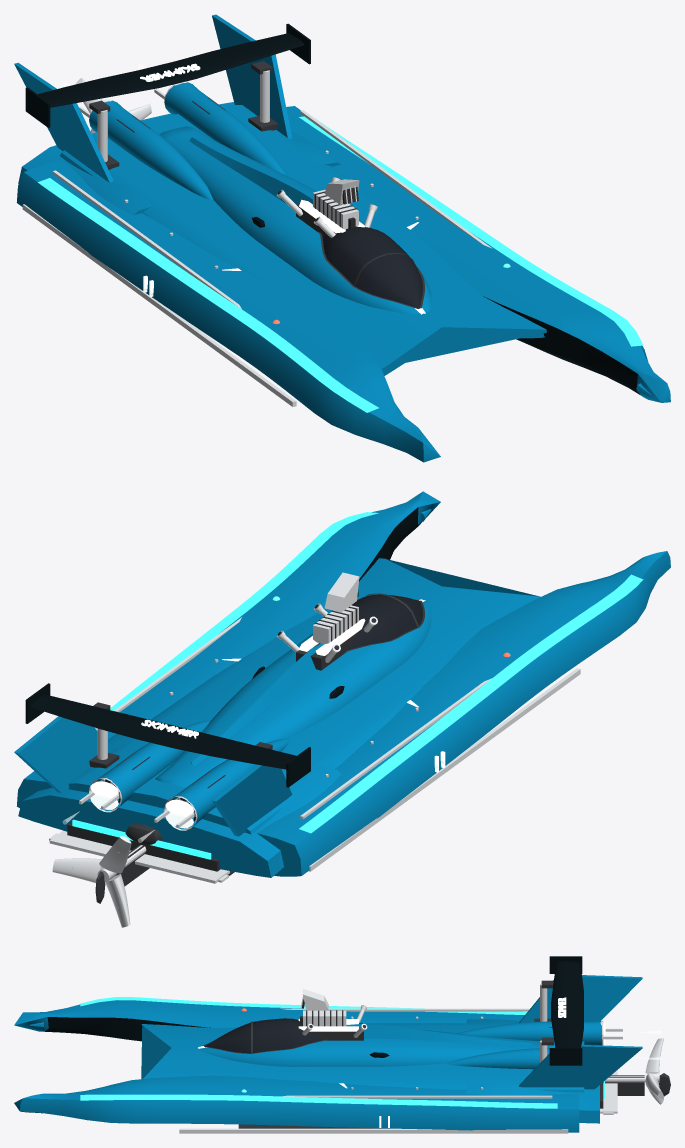
Rendered from skimmer.glb.
The picture shows the model from 3 angles, top to bottom: view 1: azimuth 30°, elevation 25°; view 2: azimuth 150°, elevation 25°; view 3: azimuth 270°, elevation 25°; orthographic projection. The views are drawn at different scales.
Visible parts, largest first — view 1: Sponson_L, TunnelDeck, Sponson_R, Cowling, RearWing, CanopyGlass, BoostStrip_L, BoostPod_0, BoostPod_1, TailFin_R, BoostStrip_R, TailFin_L (+7 smaller); view 2: Sponson_L, TunnelDeck, Sponson_R, Cowling, Afterplane, RearWing, BoostStrip_L, TailFin_R, TailFin_L, BoostStrip_R, CanopyGlass, BoostPod_1 (+14 smaller); view 3: Sponson_R, TunnelDeck, Sponson_L, Cowling, TailFin_R, BoostStrip_R, CanopyGlass, RearWing, TailFin_L, SprayRail_R, Afterplane, BoostPod_0 (+15 smaller).
Boxes of the visible parts, x1=… form: Sponson_L: x1=16, y1=160, x2=440, y2=462; TunnelDeck: x1=60, y1=105, x2=546, y2=375; Sponson_R: x1=286, y1=106, x2=670, y2=402; Cowling: x1=159, y1=126, x2=431, y2=314; RearWing: x1=37, y1=33, x2=304, y2=107; CanopyGlass: x1=322, y1=226, x2=422, y2=308; BoostStrip_L: x1=38, y1=178, x2=378, y2=412; BoostPod_0: x1=89, y1=100, x2=212, y2=199; BoostPod_1: x1=164, y1=82, x2=287, y2=175; TailFin_R: x1=212, y1=14, x2=292, y2=138; BoostStrip_R: x1=299, y1=116, x2=643, y2=346; TailFin_L: x1=14, y1=62, x2=113, y2=182; Sponson_L: x1=257, y1=551, x2=670, y2=876; TunnelDeck: x1=68, y1=558, x2=540, y2=834; Sponson_R: x1=16, y1=491, x2=440, y2=807; Cowling: x1=155, y1=601, x2=431, y2=787; Afterplane: x1=18, y1=734, x2=340, y2=877; RearWing: x1=30, y1=694, x2=296, y2=769; BoostStrip_L: x1=299, y1=574, x2=643, y2=833; TailFin_R: x1=14, y1=716, x2=113, y2=793; TailFin_L: x1=212, y1=764, x2=292, y2=836; BoostStrip_R: x1=96, y1=512, x2=378, y2=730; CanopyGlass: x1=347, y1=594, x2=422, y2=650; BoostPod_1: x1=95, y1=720, x2=211, y2=810; Sponson_R: x1=14, y1=1075, x2=579, y2=1132; TunnelDeck: x1=141, y1=1023, x2=584, y2=1092; Sponson_L: x1=14, y1=1000, x2=524, y2=1041; Cowling: x1=200, y1=1029, x2=554, y2=1066; TailFin_R: x1=519, y1=1045, x2=642, y2=1089; BoostStrip_R: x1=80, y1=1094, x2=557, y2=1108; CanopyGlass: x1=205, y1=1018, x2=325, y2=1053; RearWing: x1=551, y1=961, x2=583, y2=1047; TailFin_L: x1=519, y1=975, x2=642, y2=1022; SprayRail_R: x1=179, y1=1128, x2=568, y2=1133; Afterplane: x1=466, y1=1019, x2=599, y2=1123; BoostPod_0: x1=458, y1=1021, x2=601, y2=1045.
Size of the model in its own units: 2.43 by 1.27 by 6.3.
